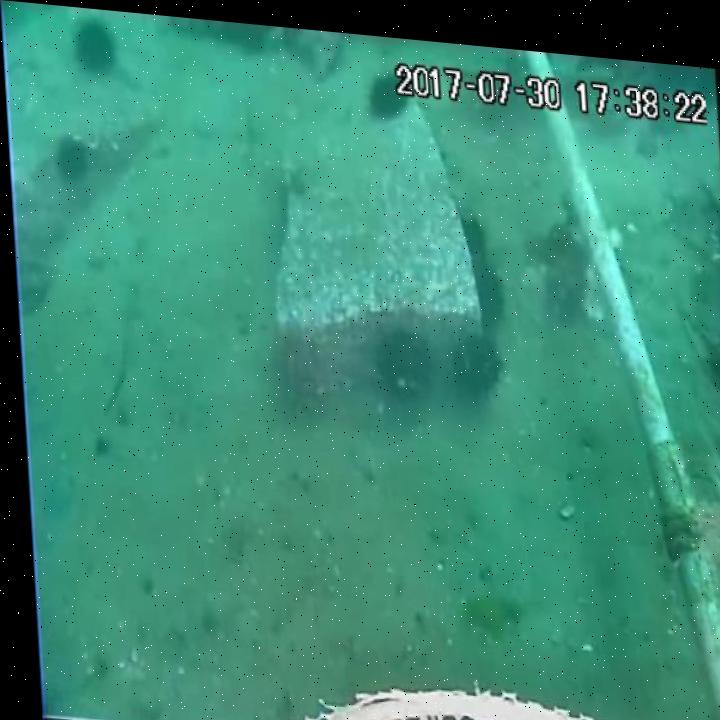echinus: (365, 316, 436, 399), (444, 318, 505, 403), (464, 249, 510, 324), (69, 16, 121, 76), (49, 132, 94, 189), (368, 62, 413, 116), (461, 202, 488, 261)
